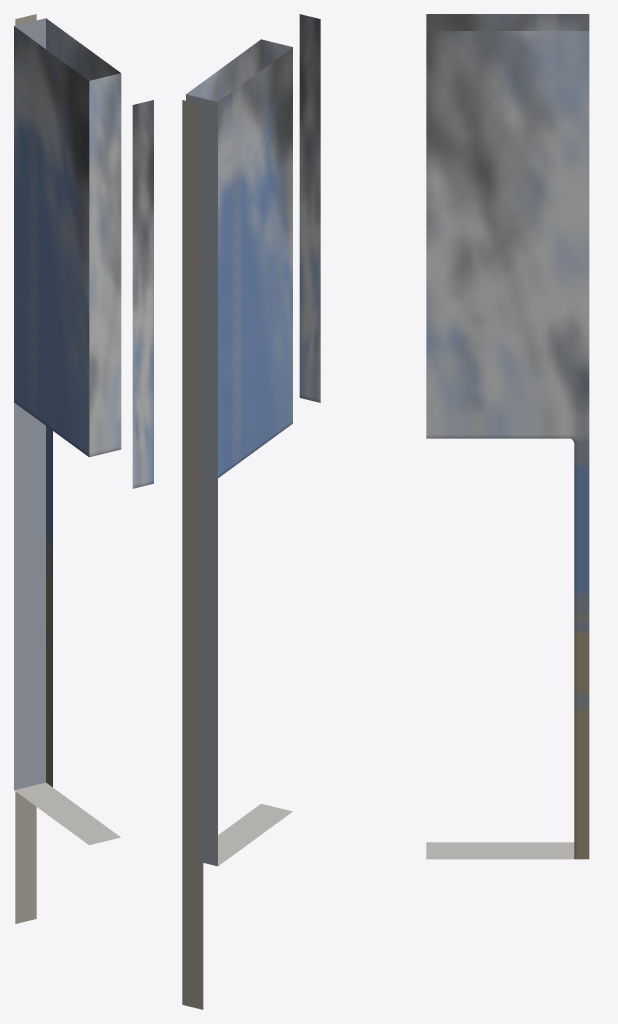
The model's file is section-2.obj.
3 renders of one model, left to right at view 1: azimuth 30°, elevation 25°; view 2: azimuth 150°, elevation 25°; view 3: azimuth 270°, elevation 25°, orthographic. The views are drawn at different scales.
Size of the model in its own units: 0.032 by 0.8643 by 0.2031.
